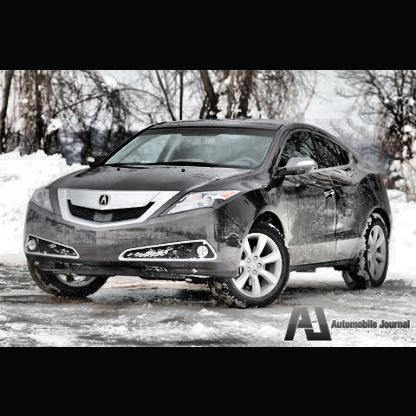Acura ZDX Hatchback 2012: (23, 117, 396, 311)
